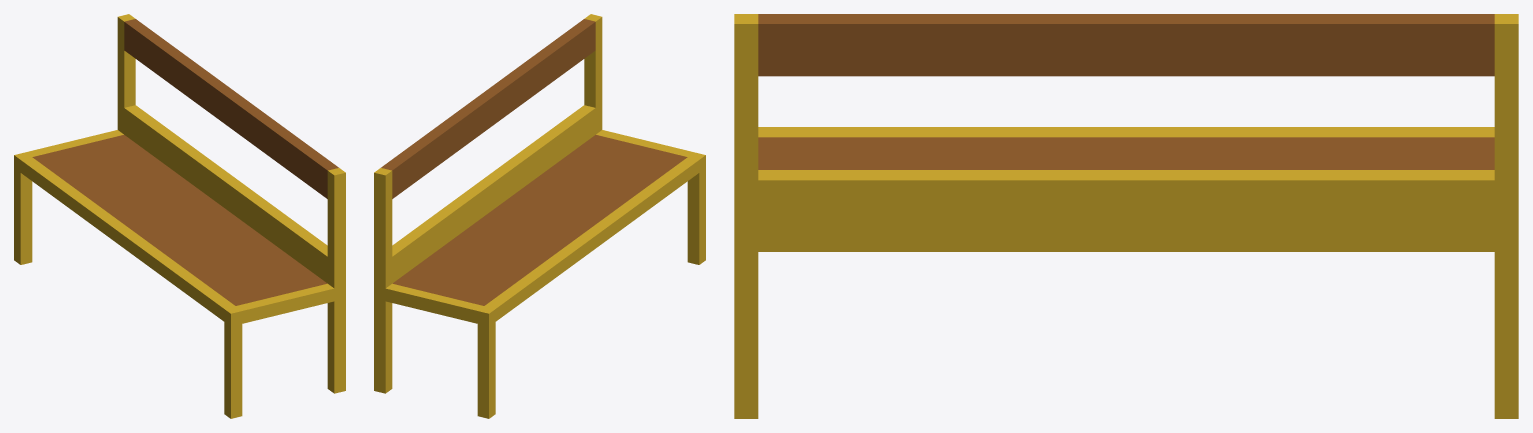
Rendered from banco 1.fbx.
3 renders of one model, left to right at view 1: azimuth 30°, elevation 25°; view 2: azimuth 150°, elevation 25°; view 3: azimuth 270°, elevation 25°, orthographic. The views are drawn at different scales.
Parts seen in each view (by area): view 1: Cube; view 2: Cube; view 3: Cube.
Part boxes in pixels (x1=…): Cube: x1=14, y1=14, x2=345, y2=418; Cube: x1=374, y1=14, x2=705, y2=418; Cube: x1=734, y1=14, x2=1518, y2=418.
Size of the model in its own units: 82.21 by 149 by 268.
